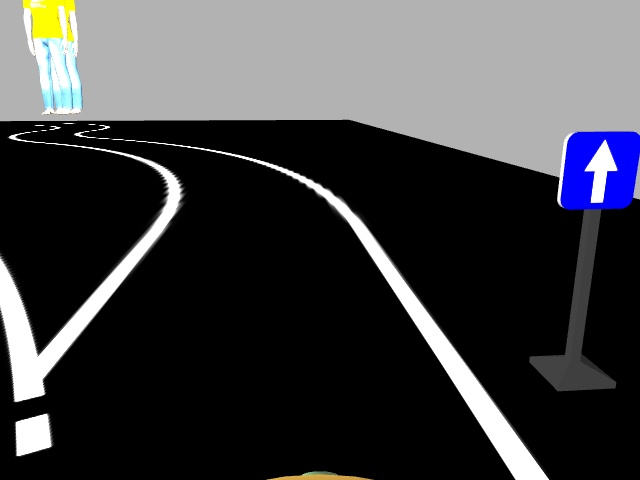OneWay: (556, 130, 636, 208)
